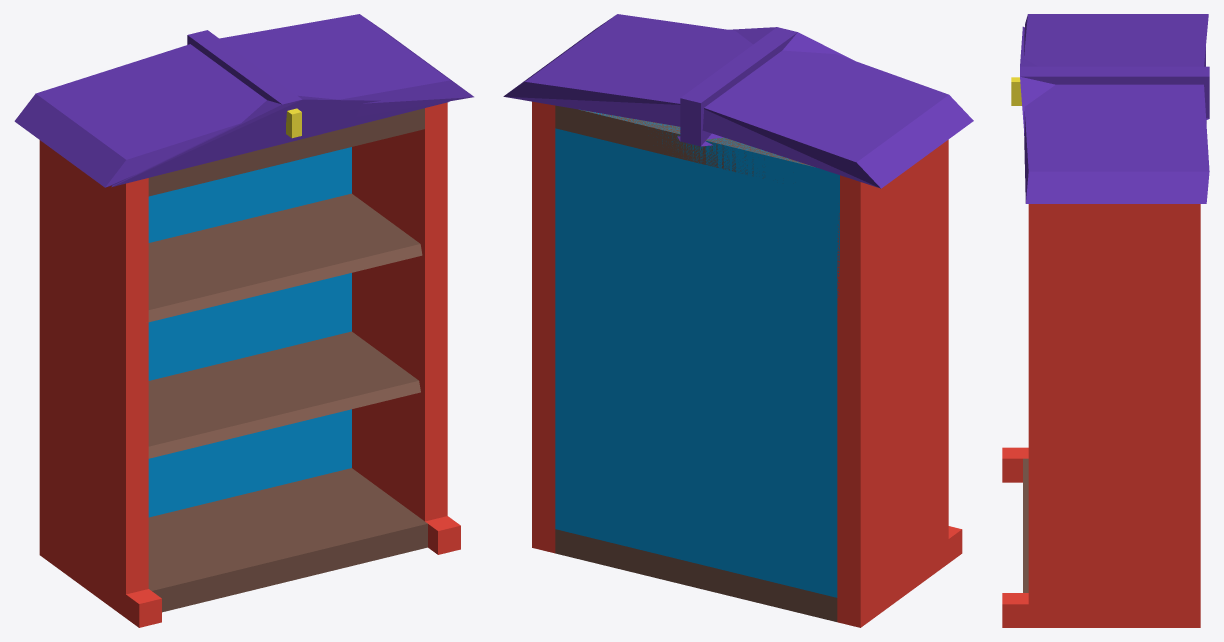
The model's file is Bookshelf.fbx.
3 views of the same model, side by side, from view 1: azimuth 30°, elevation 25°; view 2: azimuth 150°, elevation 25°; view 3: azimuth 270°, elevation 25° (orthographic). The views are drawn at different scales.
Visible parts, largest first — view 1: mesh_953535739, mesh_910643669, mesh_284713967, mesh_332570468, mesh_1895659025, mesh_550223419, mesh_1822058182, mesh_581142072, mesh_490447093, mesh_535679487, mesh_1173926778, mesh_1442369684; view 2: mesh_910643669, mesh_953535739, mesh_1895659025, mesh_581142072, mesh_284713967, mesh_332570468, mesh_535679487, mesh_490447093; view 3: mesh_284713967, mesh_581142072, mesh_1895659025, mesh_490447093, mesh_1442369684, mesh_1173926778, mesh_332570468.
Boxes of the visible parts, x1,y1,x2,y2 form: mesh_953535739: [39, 140, 148, 617]; mesh_910643669: [148, 147, 351, 517]; mesh_284713967: [352, 102, 447, 521]; mesh_332570468: [148, 468, 427, 612]; mesh_1895659025: [14, 44, 266, 187]; mesh_550223419: [146, 193, 422, 322]; mesh_1822058182: [148, 331, 420, 458]; mesh_581142072: [219, 14, 473, 116]; mesh_490447093: [111, 30, 449, 187]; mesh_535679487: [148, 108, 424, 196]; mesh_1173926778: [126, 589, 161, 627]; mesh_1442369684: [425, 516, 460, 554]; mesh_910643669: [555, 110, 839, 597]; mesh_953535739: [837, 139, 948, 627]; mesh_1895659025: [702, 50, 973, 188]; mesh_581142072: [503, 14, 752, 126]; mesh_284713967: [532, 101, 555, 553]; mesh_332570468: [555, 529, 837, 621]; mesh_535679487: [555, 105, 813, 178]; mesh_490447093: [677, 27, 854, 146]; mesh_284713967: [1028, 204, 1200, 627]; mesh_581142072: [1024, 84, 1209, 203]; mesh_1895659025: [1024, 14, 1208, 66]; mesh_490447093: [1020, 26, 1209, 136]; mesh_1442369684: [1002, 593, 1028, 627]; mesh_1173926778: [1002, 447, 1028, 482]; mesh_332570468: [1023, 458, 1028, 592].
Size of the model in its own units: 146 by 181 by 71.
